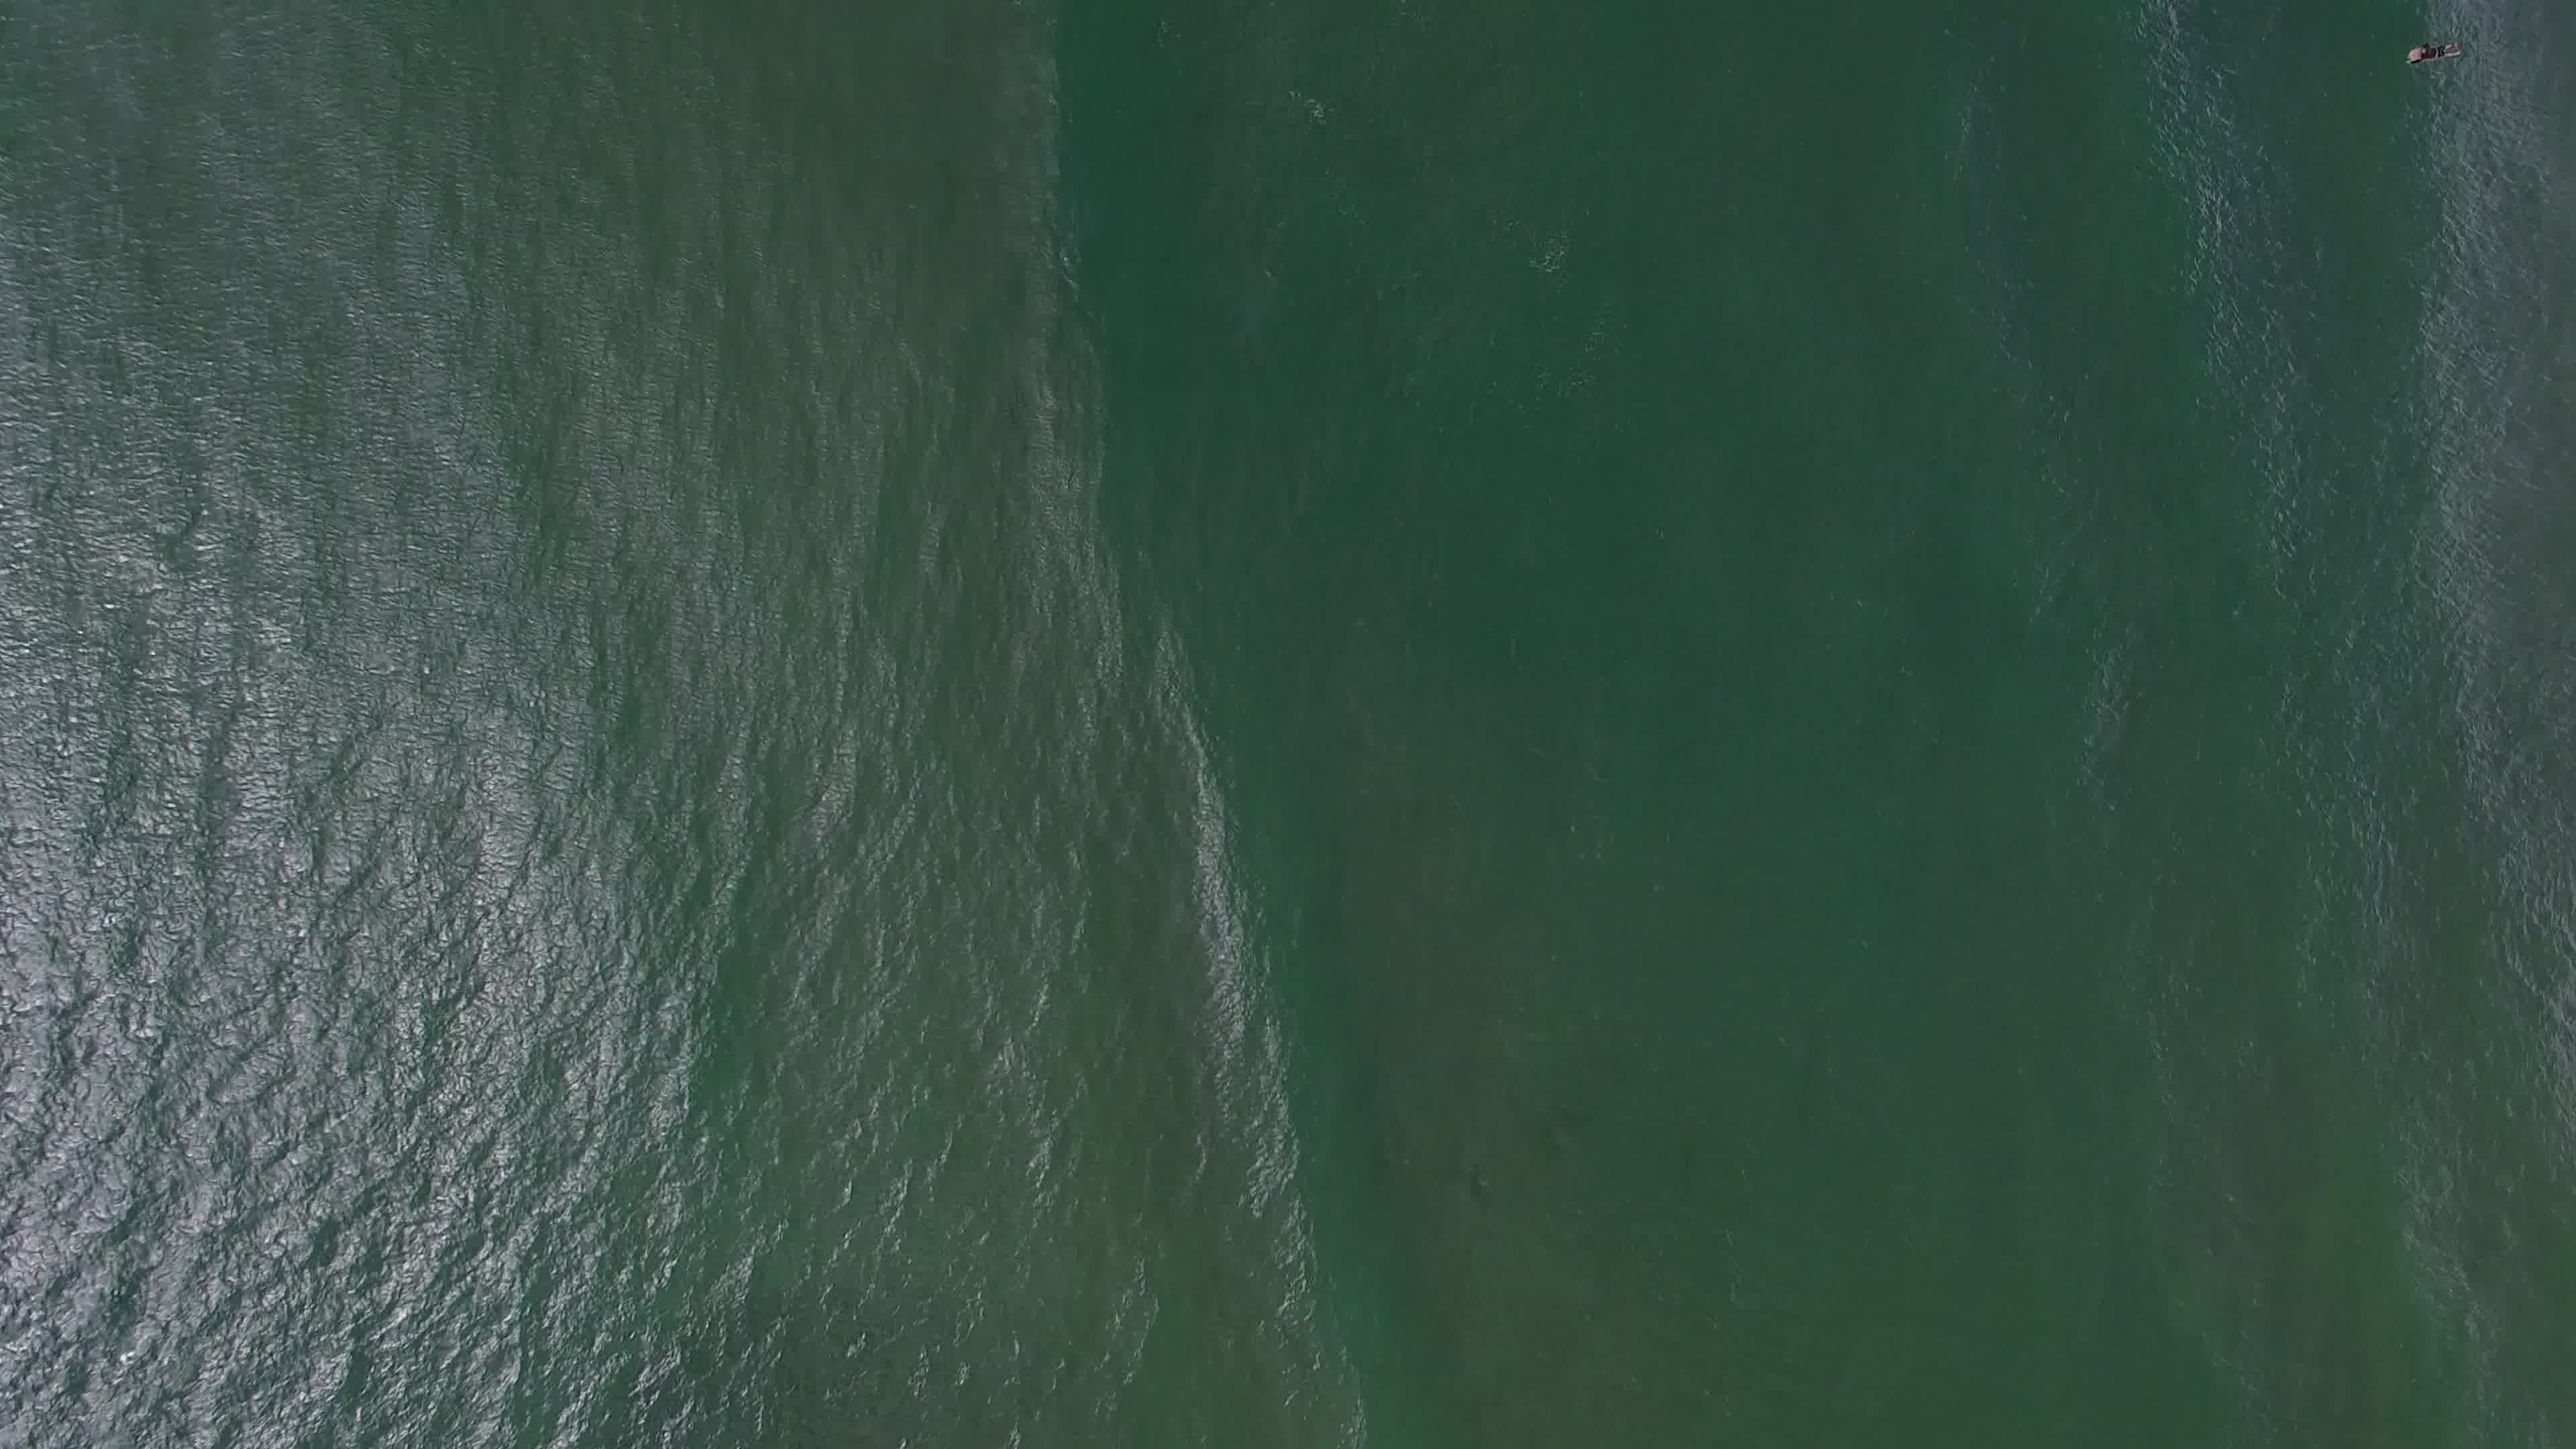surfer: (2404, 37, 2468, 73)
